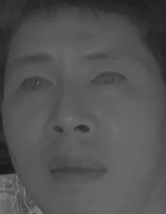eye: (89, 69, 128, 95), (18, 73, 53, 96)
mouth: (46, 150, 109, 185)
